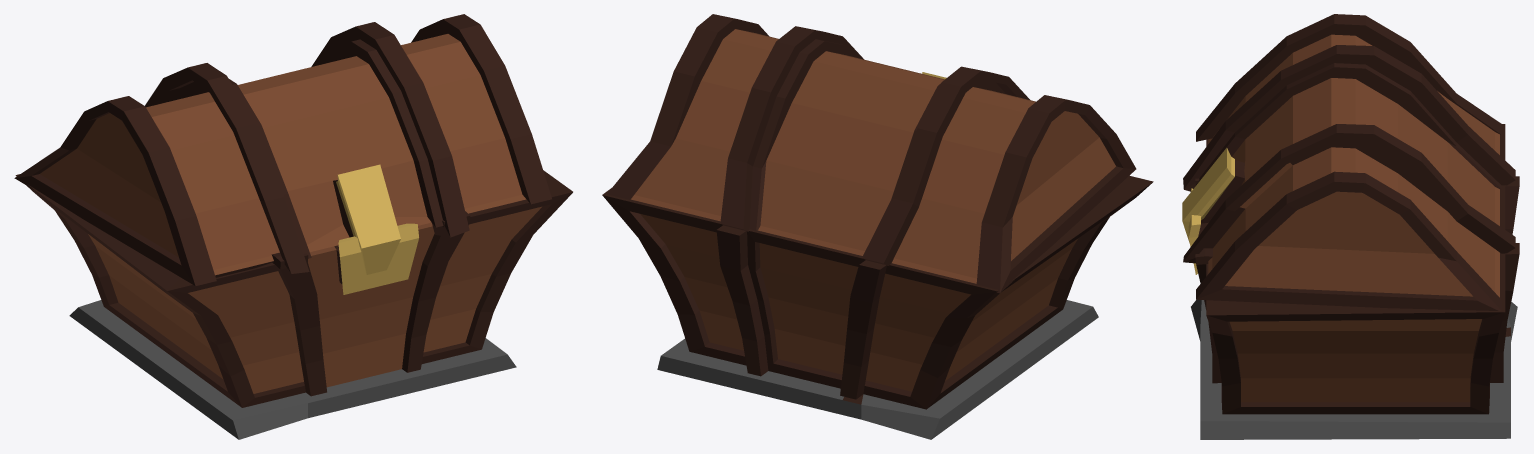
File: chest.fbx
3 renders of one model, left to right at view 1: azimuth 30°, elevation 25°; view 2: azimuth 150°, elevation 25°; view 3: azimuth 270°, elevation 25°, orthographic. The views are drawn at different scales.
Visible parts, largest first — view 1: Up, Down; view 2: Up, Down; view 3: Up, Down.
Boxes of the visible parts, x1,y1,x2,y2 form: Up: (14,14,551,286); Down: (15,170,572,439); Up: (607,14,1136,293); Down: (602,175,1153,439); Up: (1182,14,1515,310); Down: (1188,124,1519,439).
Bounding box in the file's own units: 339 × 234 × 253.
